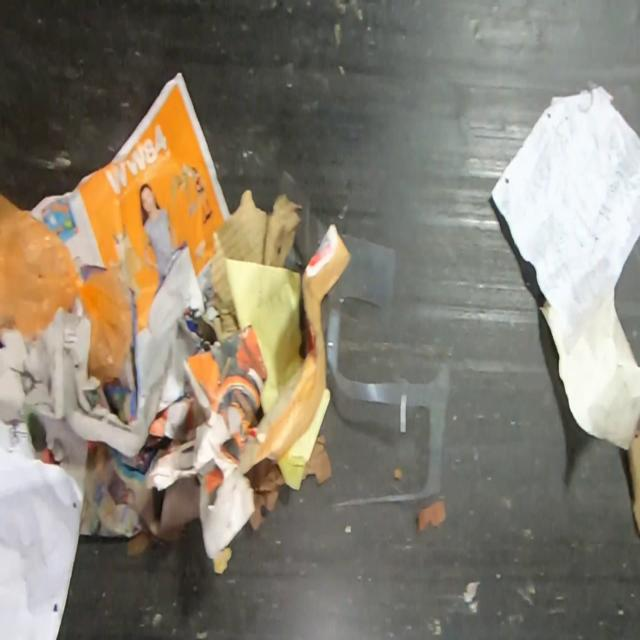cardboard: (626, 428, 640, 535)
soft_plastic: (321, 231, 452, 507), (0, 193, 134, 390), (276, 167, 328, 267)
